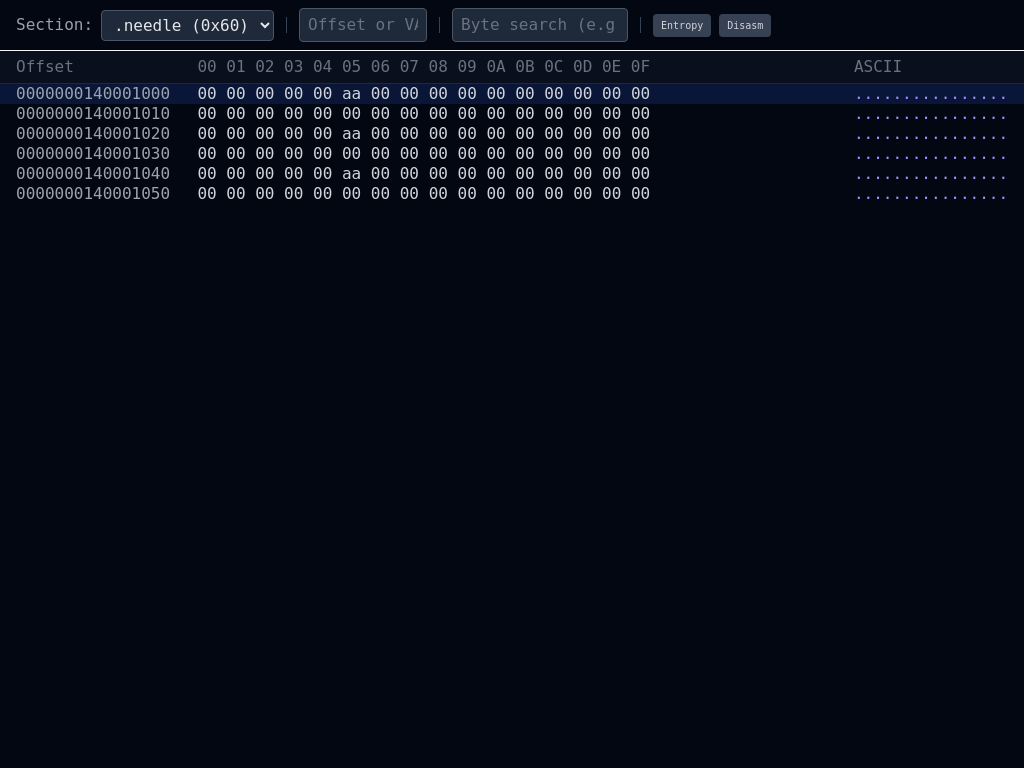
Test: HexView byte search navigation › keeps its place across steps when the real reducer moves the address
This screenshot has width=1024, height=768.
In the field with placeholder "Byte search (e.g. 4D 5A ?? 00)...": x=540, y=25 [452,8,628,42], type "AA"
Wait 150 ms
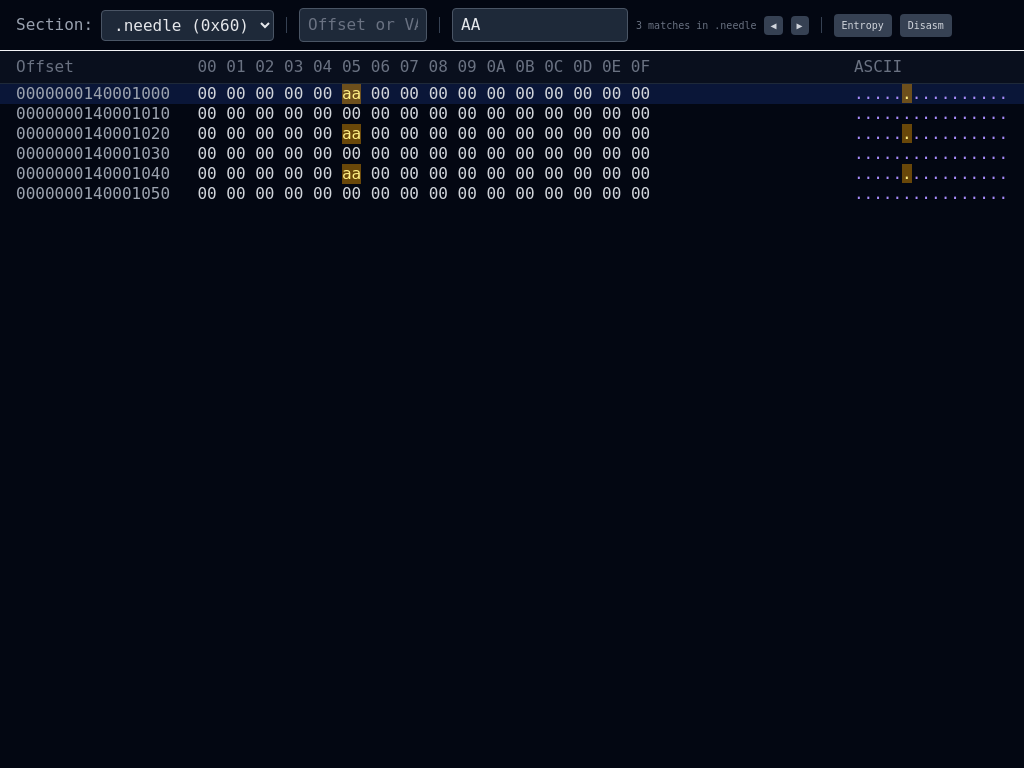
Click the button named "Next match": x=800, y=25 [790,16,808,34]
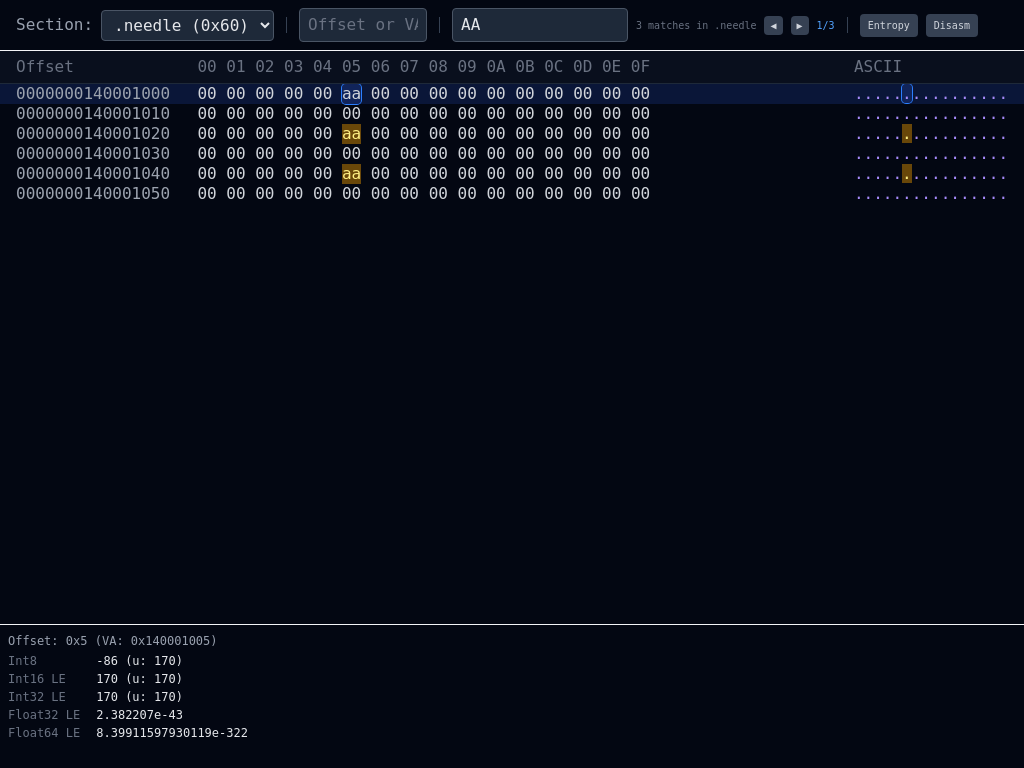
Result: the text "1/3" is shown at [816,18,835,32]
Click the button named "Next match": x=800, y=25 [790,16,808,34]
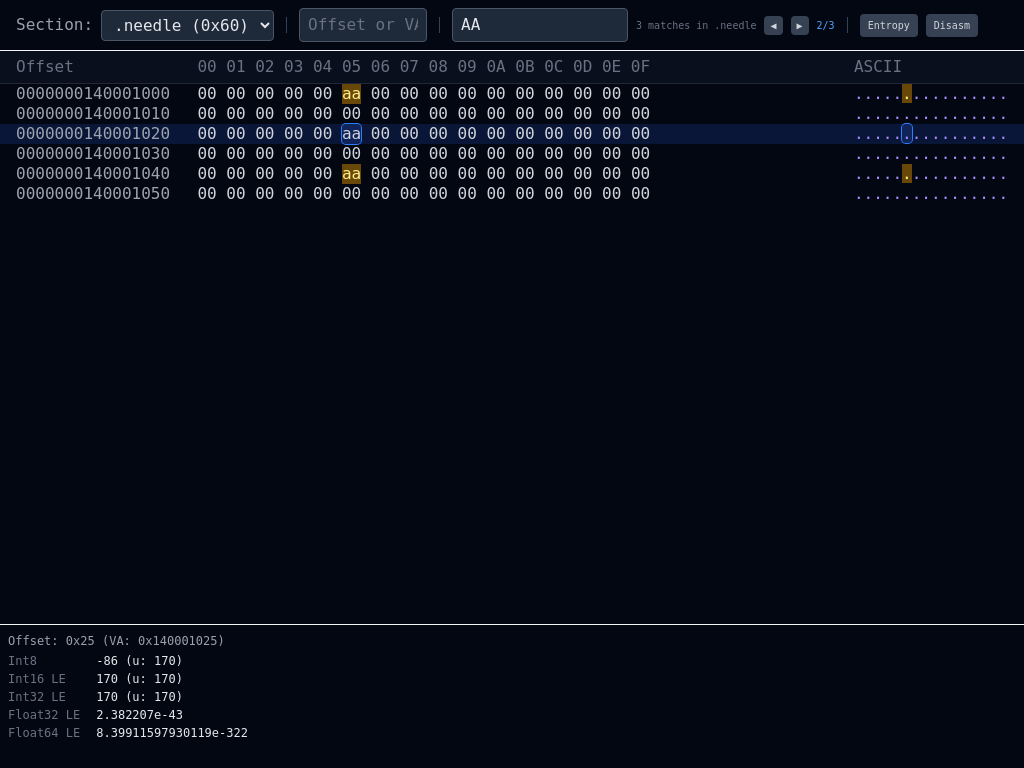
Result: the text "2/3" is shown at [816,18,835,32]
Click the button named "Next match": x=800, y=25 [790,16,808,34]
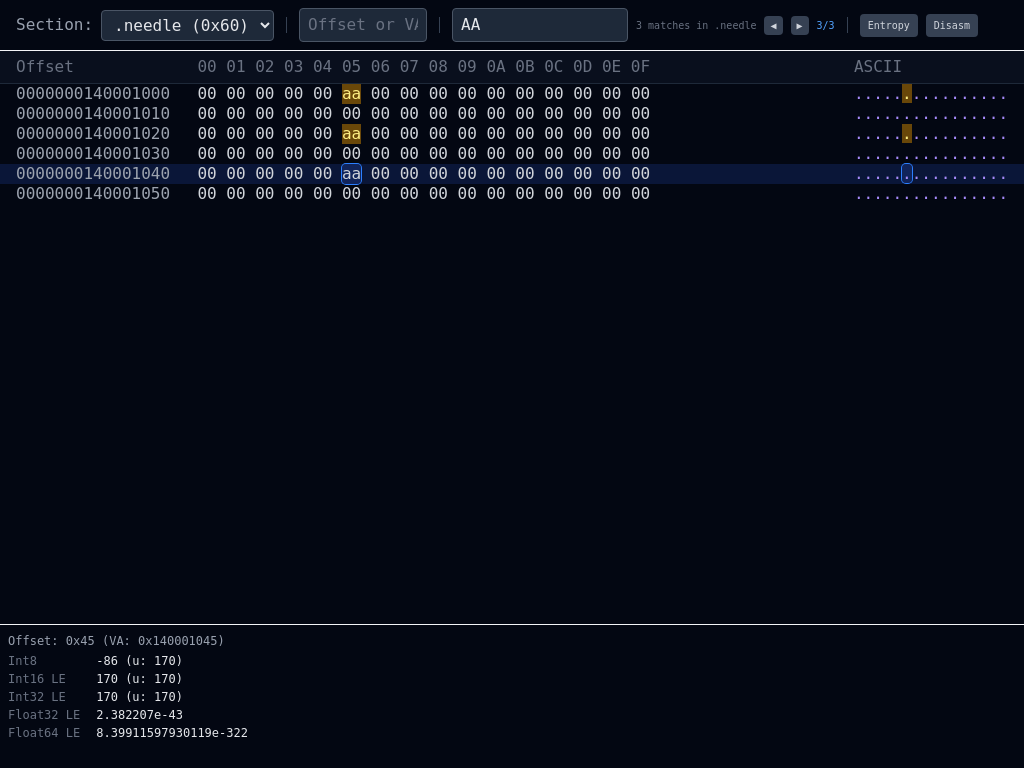
Result: the text "3 matches in .needle" is shown at [636,18,756,32]
Result: the text "3/3" is shown at [816,18,835,32]
